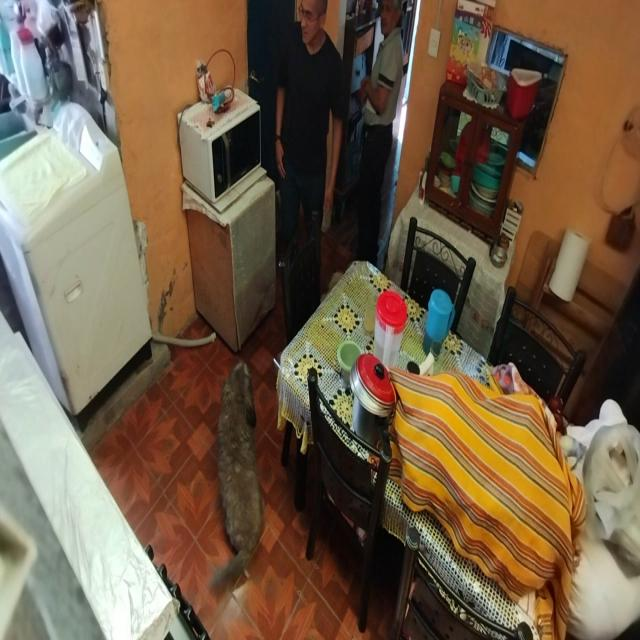adult: (274, 0, 345, 271), (356, 1, 404, 261)
